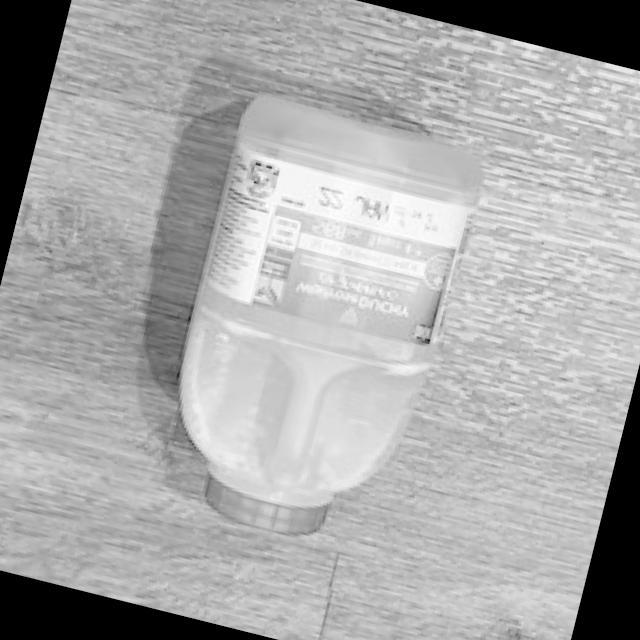HDPE Plastic: (176, 88, 484, 538)
